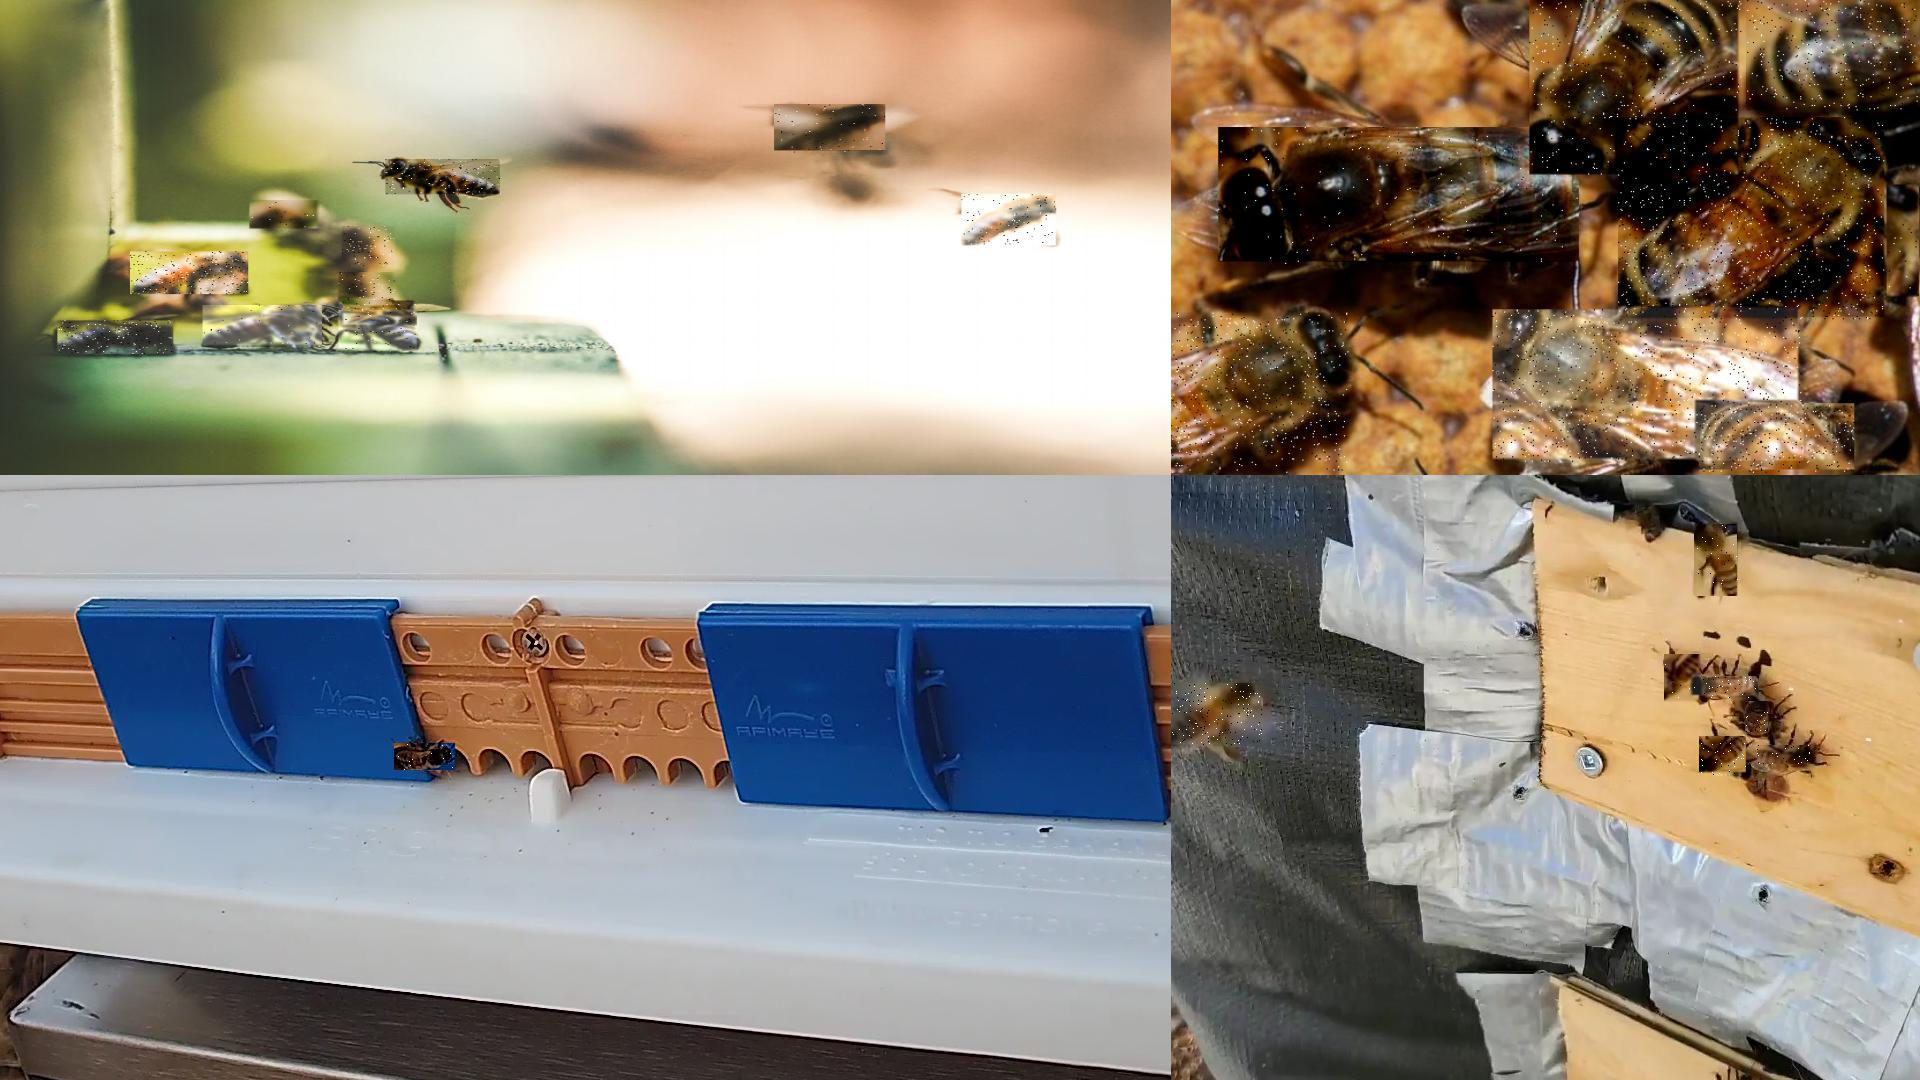bee: (1618, 117, 1886, 320), (1494, 310, 1804, 464), (1531, 0, 1743, 175), (1171, 313, 1350, 475), (1746, 0, 1919, 112), (1700, 405, 1855, 475), (1171, 683, 1265, 746), (774, 104, 886, 153), (131, 252, 249, 295), (961, 194, 1058, 247), (203, 306, 323, 348), (385, 158, 501, 195), (58, 320, 174, 355), (1886, 185, 1919, 298), (1695, 525, 1742, 597), (339, 310, 418, 351), (342, 227, 396, 266), (251, 200, 323, 229), (339, 273, 397, 306), (344, 301, 419, 326), (1700, 737, 1747, 777), (1665, 655, 1704, 704), (394, 742, 456, 771), (1695, 676, 1759, 700), (1758, 745, 1821, 765), (1745, 702, 1770, 733)
drone: (1218, 128, 1580, 266)
